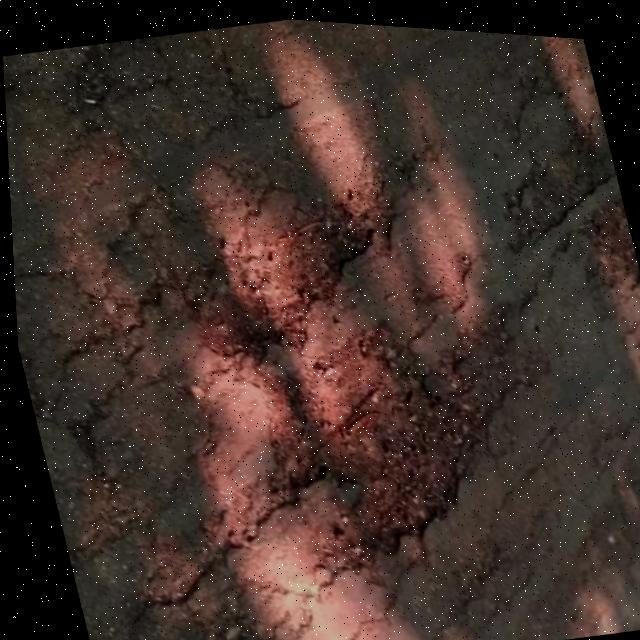Pothole: (232, 309, 505, 600), (170, 181, 405, 379), (564, 191, 640, 292)
